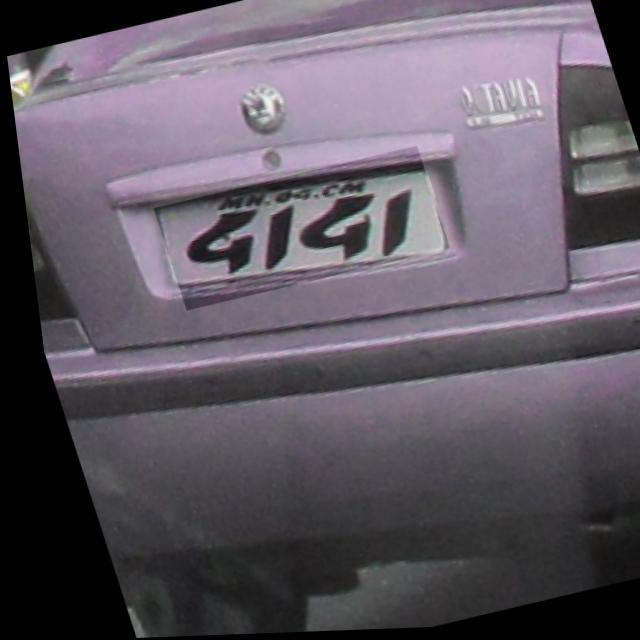license_plate: (143, 148, 448, 312)
